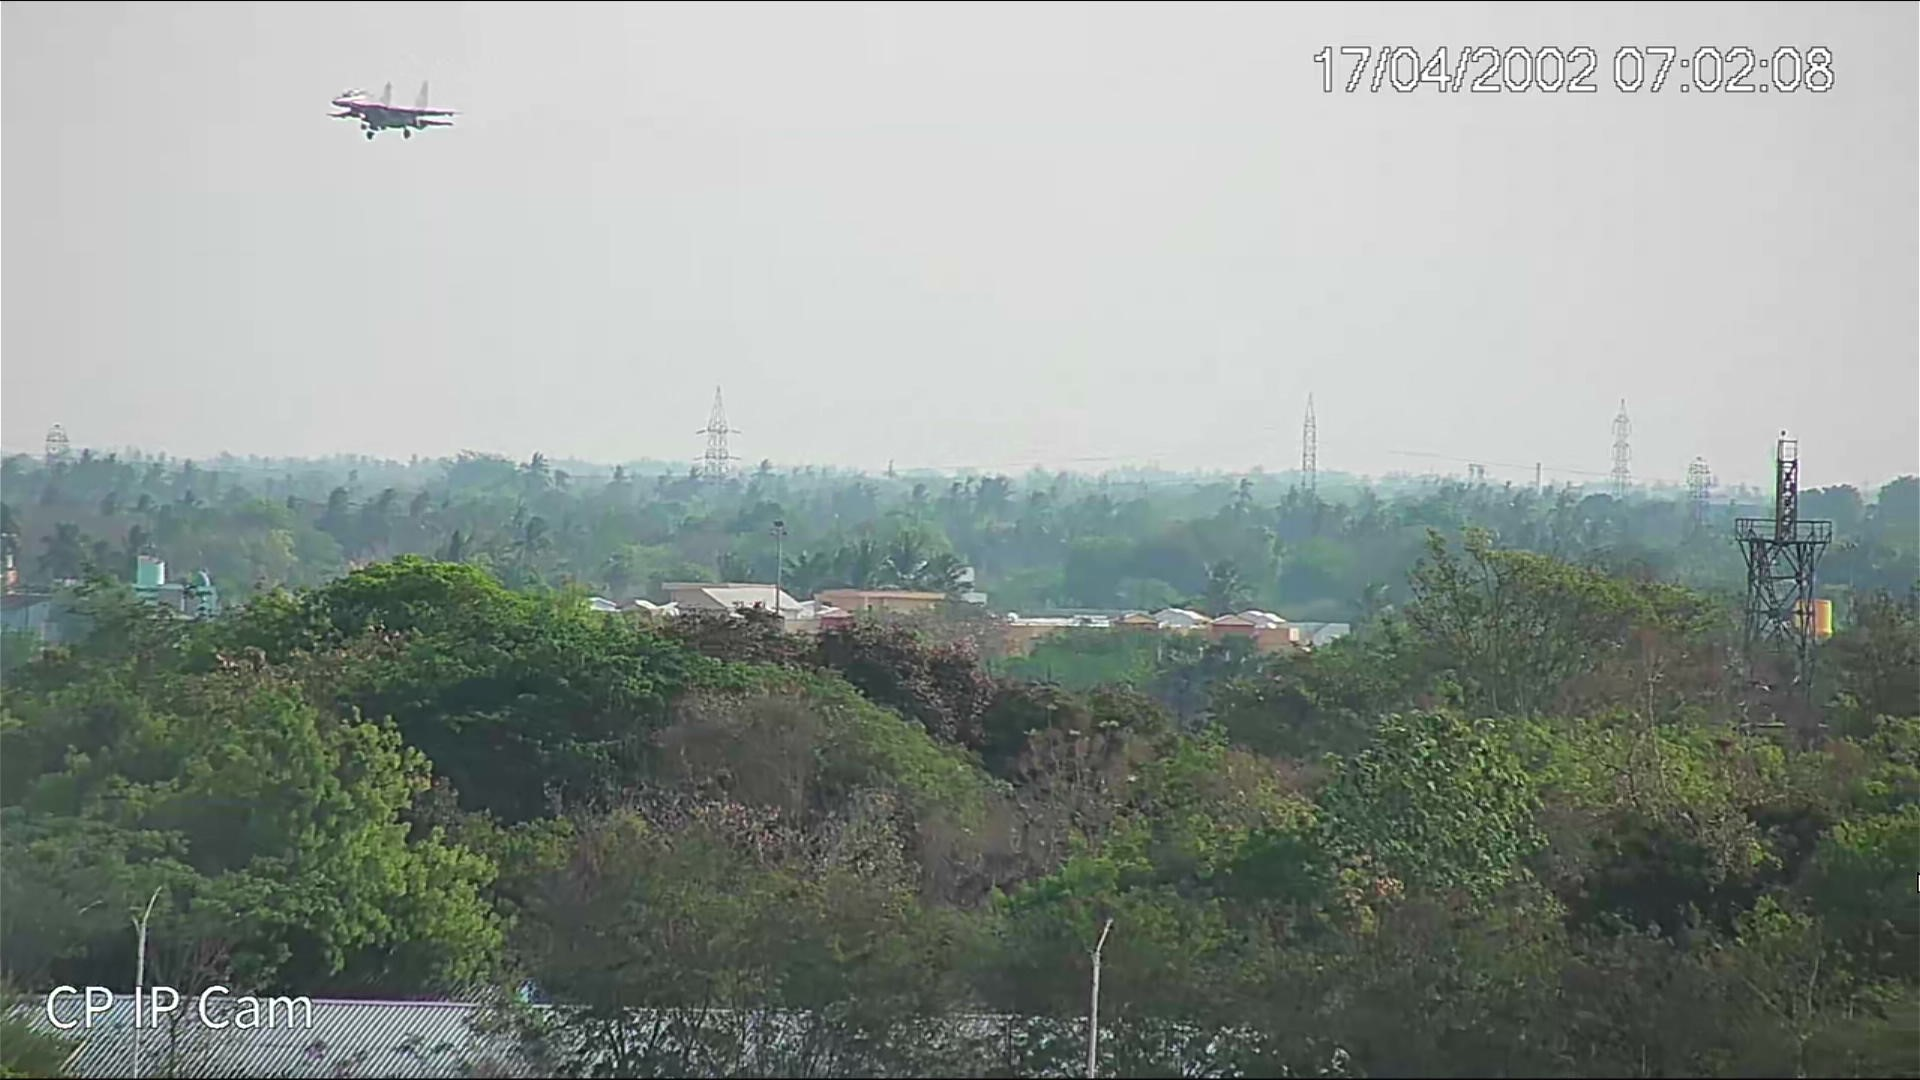SU_30: (327, 79, 465, 142)
